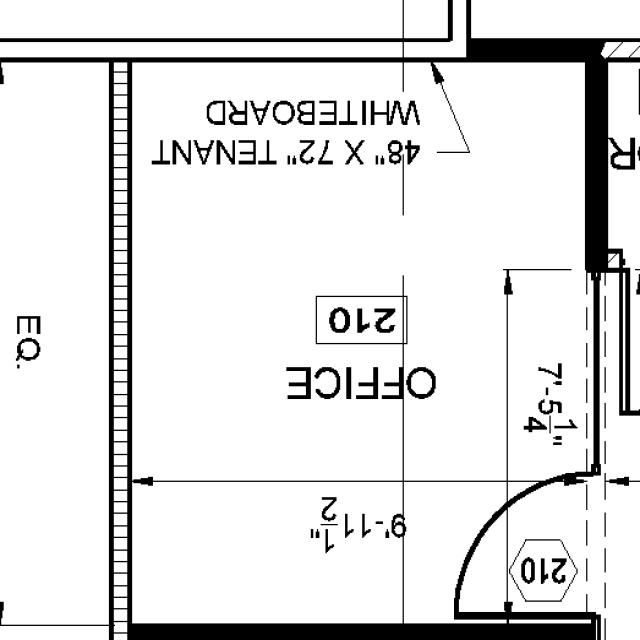Doors: (448, 466, 610, 623)
